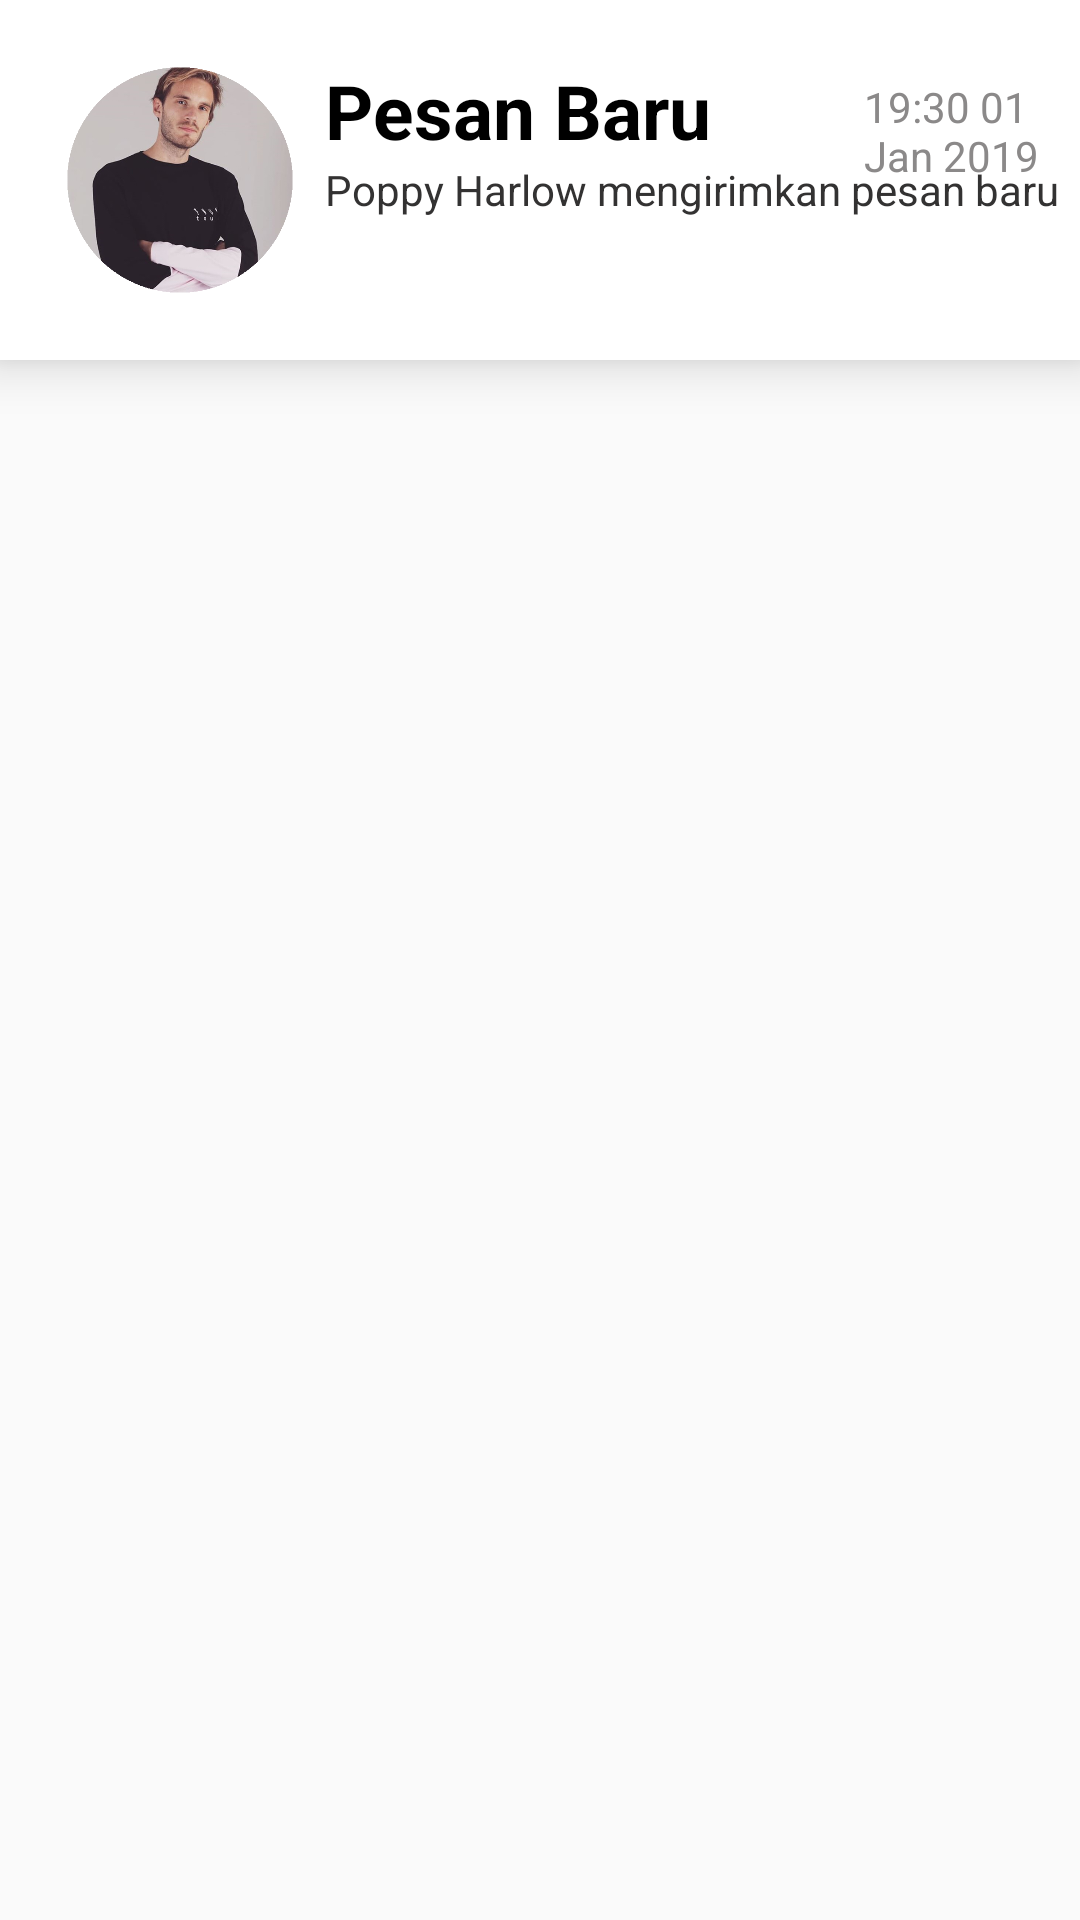

Named icons in this screenshot (1080 × 1920) and their bounding boxes, (x1, y1, x2, y2):
profile: (67, 67, 293, 292)
